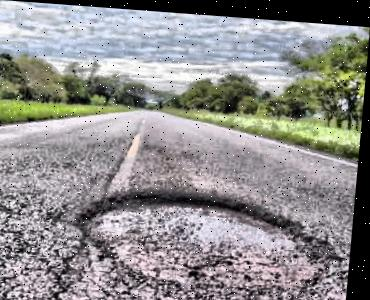pothole: (71, 181, 353, 300)
